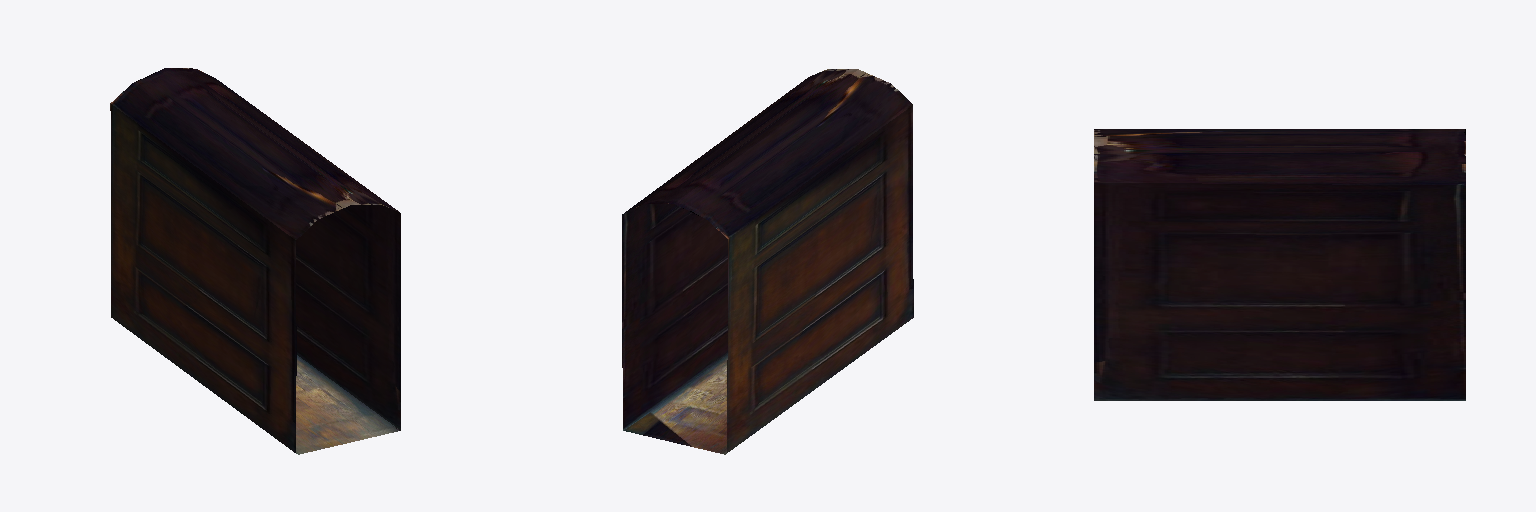
3 views of the same model, side by side, from view 1: azimuth 30°, elevation 25°; view 2: azimuth 150°, elevation 25°; view 3: azimuth 270°, elevation 25° (orthographic).
Visible parts, largest first — view 1: Kitchen_GEO_GRP1_Kitchen_86; view 2: Kitchen_GEO_GRP1_Kitchen_86; view 3: Kitchen_GEO_GRP1_Kitchen_86.
Boxes of the visible parts, box(x1,y1,x2,y2) form: Kitchen_GEO_GRP1_Kitchen_86: box(110, 68, 400, 454); Kitchen_GEO_GRP1_Kitchen_86: box(622, 69, 913, 454); Kitchen_GEO_GRP1_Kitchen_86: box(1094, 129, 1465, 400).
Size of the model in its own units: 1.2 by 2.57 by 3.62.
1 materials, 1 textured.